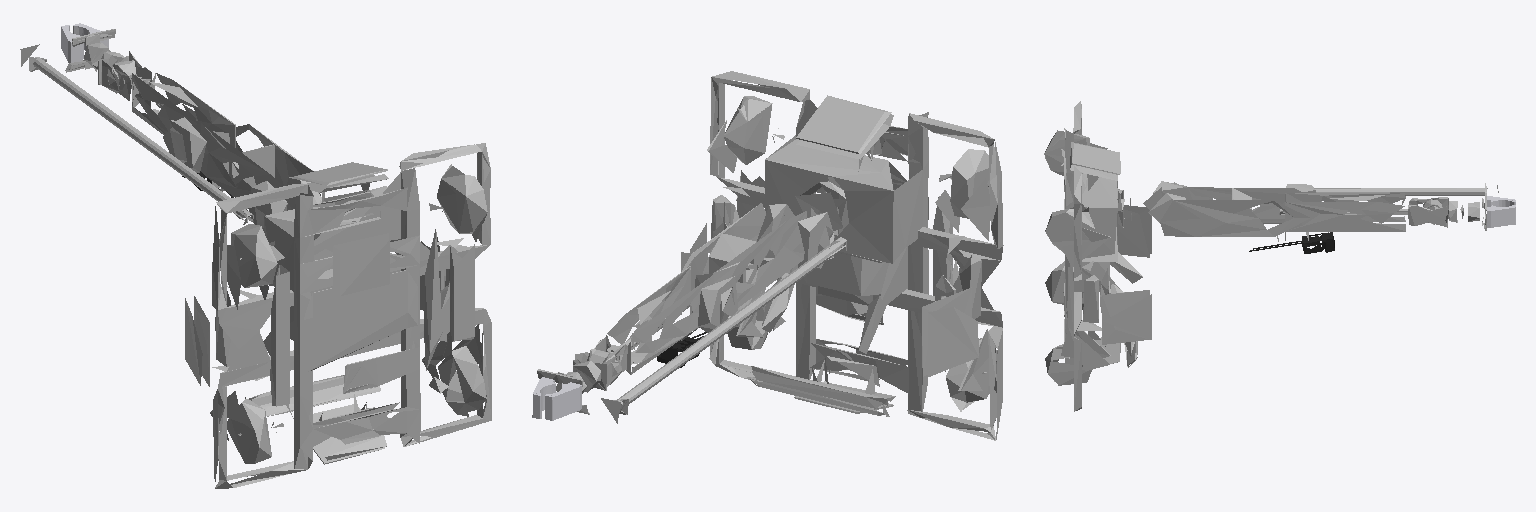
The robot description file, URDF, robot "engineer_0520_description":
<?xml version="1.0" encoding="utf-8"?>
<!-- This URDF was automatically created by SolidWorks to URDF Exporter! Originally created by Stephen Brawner (brawner@gmail.com) 
     Commit Version: 1.6.0-4-g7f85cfe  Build Version: 1.6.7995.38578
     For more information, please see http://wiki.ros.org/sw_urdf_exporter -->
<robot
  name="engineer_0520_description">
  <link
    name="world" />
  <joint
    name="world_to_base_link"
    type="fixed">
    <origin
      xyz="0 0 0"
      rpy="0 0 0" />
    <parent
      link="world" />
    <child
      link="base_link" />
  </joint>
  <link
    name="base_link">
    <inertial>
      <origin
        xyz="-0.15574296864304 0.25090625062732 0.235076139553237"
        rpy="0 0 0" />
      <mass
        value="1845.63092770644" />
      <inertia
        ixx="347.000686482479"
        ixy="7.0242702233582E-07"
        ixz="1.47566858487164E-06"
        iyy="393.235048089486"
        iyz="-0.000180676144602403"
        izz="346.993091857669" />
    </inertial>
    <visual>
      <origin
        xyz="0 0 0"
        rpy="0 0 0" />
      <geometry>
        <mesh
          filename="package://engineer_0520_description/meshes/base_link.STL" />
      </geometry>
      <material
        name="">
        <color
          rgba="0.752941176470588 0.752941176470588 0.752941176470588 1" />
      </material>
    </visual>
    <collision>
      <origin
        xyz="0 0 0"
        rpy="0 0 0" />
      <geometry>
        <mesh
          filename="package://engineer_0520_description/meshes/base_link.STL" />
      </geometry>
    </collision>
  </link>
  <link
    name="J1_link">
    <inertial>
      <origin
        xyz="-0.0187536614195956 0.132069580136279 0.000197561285718323"
        rpy="0 0 0" />
      <mass
        value="2.01551628733357" />
      <inertia
        ixx="0.0105697583079727"
        ixy="-9.82312126860049E-07"
        ixz="9.68727270818069E-07"
        iyy="0.0012445175584642"
        iyz="2.03452664199397E-05"
        izz="0.00964014877895151" />
    </inertial>
    <visual>
      <origin
        xyz="0 0 0"
        rpy="0 0 0" />
      <geometry>
        <mesh
          filename="package://engineer_0520_description/meshes/J1_link.STL" />
      </geometry>
      <material
        name="">
        <color
          rgba="0.752941176470588 0.752941176470588 0.752941176470588 1" />
      </material>
    </visual>
    <collision>
      <origin
        xyz="0 0 0"
        rpy="0 0 0" />
      <geometry>
        <mesh
          filename="package://engineer_0520_description/meshes/J1_link.STL" />
      </geometry>
    </collision>
  </link>
  <joint
    name="J1_joint"
    type="revolute">
    <origin
      xyz="0 0.1315 0.132"
      rpy="0 0 0" />
    <parent
      link="base_link" />
    <child
      link="J1_link" />
    <axis
      xyz="0 1 0" />
    <limit
      lower="-3"
      upper="3"
      effort="9"
      velocity="20.0" />
  </joint>
  <link
    name="J2_link">
    <inertial>
      <origin
        xyz="-0.0272444412408289 0.237454011381441 6.73891861327769E-05"
        rpy="0 0 0" />
      <mass
        value="1.5324502721387" />
      <inertia
        ixx="0.00593383574667708"
        ixy="-2.94416883919934E-09"
        ixz="4.78295159906094E-07"
        iyy="0.0011293748733648"
        iyz="1.35372771031177E-06"
        izz="0.00517042153986259" />
    </inertial>
    <visual>
      <origin
        xyz="0 0 0"
        rpy="0 0 0" />
      <geometry>
        <mesh
          filename="package://engineer_0520_description/meshes/J2_link.STL" />
      </geometry>
      <material
        name="">
        <color
          rgba="0.752941176470588 0.752941176470588 0.752941176470588 1" />
      </material>
    </visual>
    <collision>
      <origin
        xyz="0 0 0"
        rpy="0 0 0" />
      <geometry>
        <mesh
          filename="package://engineer_0520_description/meshes/J2_link.STL" />
      </geometry>
    </collision>
  </link>
  <joint
    name="J2_joint"
    type="revolute">
    <origin
      xyz="0.019 0.09 0"
      rpy="0 0 0" />
    <parent
      link="J1_link" />
    <child
      link="J2_link" />
    <axis
      xyz="-1 0 0" />
    <limit
      lower="-1"
      upper="1"
      effort="24"
      velocity="20.0" />
  </joint>
  <link
    name="J3_link">
    <inertial>
      <origin
        xyz="0.000246150730100224 0.0696837478174211 -0.0145365067280068"
        rpy="0 0 0" />
      <mass
        value="0.637441970527478" />
      <inertia
        ixx="0.00271328583847924"
        ixy="7.26213212632554E-10"
        ixz="1.74819116642235E-07"
        iyy="0.00027441567972836"
        iyz="1.07057531147903E-06"
        izz="0.0025837902810134" />
    </inertial>
    <visual>
      <origin
        xyz="0 0 0"
        rpy="0 0 0" />
      <geometry>
        <mesh
          filename="package://engineer_0520_description/meshes/J3_link.STL" />
      </geometry>
      <material
        name="">
        <color
          rgba="0.752941176470588 0.752941176470588 0.752941176470588 1" />
      </material>
    </visual>
    <collision>
      <origin
        xyz="0 0 0"
        rpy="0 0 0" />
      <geometry>
        <mesh
          filename="package://engineer_0520_description/meshes/J3_link.STL" />
      </geometry>
    </collision>
  </link>
  <joint
    name="J3_joint"
    type="revolute">
    <origin
      xyz="-0.0005 0.32 0"
      rpy="0 0 0" />
    <parent
      link="J2_link" />
    <child
      link="J3_link" />
    <axis
      xyz="-1 0 0" />
    <limit
      lower="-2.62"
      upper="1.7"
      effort="12"
      velocity="20.0" />
  </joint>
  <link
    name="J4_link">
    <inertial>
      <origin
        xyz="-0.00181738524803158 0.031346229412983 9.83436362550494E-05"
        rpy="0 0 0" />
      <mass
        value="0.178639999994294" />
      <inertia
        ixx="7.5266473654563E-05"
        ixy="1.78728148504234E-08"
        ixz="3.03867212142531E-08"
        iyy="3.62165400431792E-05"
        iyz="-2.2016577990914E-08"
        izz="5.0139024590417E-05" />
    </inertial>
    <visual>
      <origin
        xyz="0 0 0"
        rpy="0 0 0" />
      <geometry>
        <mesh
          filename="package://engineer_0520_description/meshes/J4_link.STL" />
      </geometry>
      <material
        name="">
        <color
          rgba="0.752941176470588 0.752941176470588 0.752941176470588 1" />
      </material>
    </visual>
    <collision>
      <origin
        xyz="0 0 0"
        rpy="0 0 0" />
      <geometry>
        <mesh
          filename="package://engineer_0520_description/meshes/J4_link.STL" />
      </geometry>
    </collision>
  </link>
  <joint
    name="J4_joint"
    type="revolute">
    <origin
      xyz="0 0.28070210853372 0"
      rpy="0 0 0" />
    <parent
      link="J3_link" />
    <child
      link="J4_link" />
    <axis
      xyz="0 -1 0" />
    <limit
      lower="-3.14"
      upper="3.14"
      effort="4"
      velocity="20.0" />
  </joint>
  <link
    name="J5_link">
    <inertial>
      <origin
        xyz="-0.000818589722430721 0.0336820874514009 -0.000358450127793009"
        rpy="0 0 0" />
      <mass
        value="0.114681497965425" />
      <inertia
        ixx="2.93631674509271E-05"
        ixy="4.18472244802698E-09"
        ixz="2.20706578949005E-08"
        iyy="3.80349209787703E-05"
        iyz="4.35573494198617E-08"
        izz="2.7086932663539E-05" />
    </inertial>
    <visual>
      <origin
        xyz="0 0 0"
        rpy="0 0 0" />
      <geometry>
        <mesh
          filename="package://engineer_0520_description/meshes/J5_link.STL" />
      </geometry>
      <material
        name="">
        <color
          rgba="0.752941176470588 0.752941176470588 0.752941176470588 1" />
      </material>
    </visual>
    <collision>
      <origin
        xyz="0 0 0"
        rpy="0 0 0" />
      <geometry>
        <mesh
          filename="package://engineer_0520_description/meshes/J5_link.STL" />
      </geometry>
    </collision>
  </link>
  <joint
    name="J5_joint"
    type="revolute">
    <origin
      xyz="0 0.0442978914662795 0"
      rpy="0 0 0" />
    <parent
      link="J4_link" />
    <child
      link="J5_link" />
    <axis
      xyz="-1 0 0" />
    <limit
      lower="-2"
      upper="2"
      effort="5"
      velocity="20.0" />
  </joint>
  <link
    name="J6_link">
    <inertial>
      <origin
        xyz="-7.36099122376627E-05 -0.00792453225189915 1.94377710707183E-05"
        rpy="0 0 0" />
      <mass
        value="0.274222052705575" />
      <inertia
        ixx="2.7933241040805E-05"
        ixy="-3.37298349477692E-08"
        ixz="6.90052701435227E-08"
        iyy="9.61910417664122E-05"
        iyz="-7.97777742518918E-09"
        izz="7.80592654053116E-05" />
    </inertial>
    <visual>
      <origin
        xyz="0 0 0"
        rpy="0 0 0" />
      <geometry>
        <mesh
          filename="package://engineer_0520_description/meshes/J6_link.STL" />
      </geometry>
      <material
        name="">
        <color
          rgba="0.752941176470588 0.752941176470588 0.752941176470588 1" />
      </material>
    </visual>
    <collision>
      <origin
        xyz="0 0 0"
        rpy="0 0 0" />
      <geometry>
        <mesh
          filename="package://engineer_0520_description/meshes/J6_link.STL" />
      </geometry>
    </collision>
  </link>
  <joint
    name="J6_joint"
    type="revolute">
    <origin
      xyz="0 0.1179 0"
      rpy="0 0 0" />
    <parent
      link="J5_link" />
    <child
      link="J6_link" />
    <axis
      xyz="0 1 0" />
    <limit
      lower="-3.14"
      upper="3.14"
      effort="4"
      velocity="20.0" />
  </joint>
  <link
    name="claw1_link">
    <inertial>
      <origin
        xyz="0.0377332068105226 -0.0102196163488086 -0.0170292088704908"
        rpy="0 0 0" />
      <mass
        value="0.163350850695426" />
      <inertia
        ixx="9.9090701762021E-05"
        ixy="-1.24240348696389E-05"
        ixz="-2.27437709943838E-08"
        iyy="3.83929113442839E-05"
        iyz="1.27777079618242E-07"
        izz="7.99823961402051E-05" />
    </inertial>
    <visual>
      <origin
        xyz="0 0 0"
        rpy="0 0 0" />
      <geometry>
        <mesh
          filename="package://engineer_0520_description/meshes/claw1_link.STL" />
      </geometry>
      <material
        name="">
        <color
          rgba="0.866666666666667 0.866666666666667 0.890196078431372 1" />
      </material>
    </visual>
    <collision>
      <origin
        xyz="0 0 0"
        rpy="0 0 0" />
      <geometry>
        <mesh
          filename="package://engineer_0520_description/meshes/claw1_link.STL" />
      </geometry>
    </collision>
  </link>
  <joint
    name="claw1_joint"
    type="prismatic">
    <origin
      xyz="-0.0146 0.055 0.01556"
      rpy="0 0 0" />
    <parent
      link="J6_link" />
    <child
      link="claw1_link" />
    <axis
      xyz="-1 0 0" />
    <limit
      lower="-0.06"
      upper="0"
      effort="10"
      velocity="0.3" />
  </joint>
  <link
    name="claw2_link">
    <inertial>
      <origin
        xyz="-0.037733206810525 -0.0102196163488086 0.0170292088704905"
        rpy="0 0 0" />
      <mass
        value="0.163350850695426" />
      <inertia
        ixx="9.90907017620209E-05"
        ixy="1.2424034869639E-05"
        ixz="-2.27437709945702E-08"
        iyy="3.8392911344284E-05"
        iyz="-1.27777079618117E-07"
        izz="7.99823961402051E-05" />
    </inertial>
    <visual>
      <origin
        xyz="0 0 0"
        rpy="0 0 0" />
      <geometry>
        <mesh
          filename="package://engineer_0520_description/meshes/claw2_link.STL" />
      </geometry>
      <material
        name="">
        <color
          rgba="0.866666666666667 0.866666666666667 0.890196078431372 1" />
      </material>
    </visual>
    <collision>
      <origin
        xyz="0 0 0"
        rpy="0 0 0" />
      <geometry>
        <mesh
          filename="package://engineer_0520_description/meshes/claw2_link.STL" />
      </geometry>
    </collision>
  </link>
  <joint
    name="claw2_joint"
    type="prismatic">
    <origin
      xyz="0.0146 0.055 -0.01556"
      rpy="0 0 0" />
    <parent
      link="J6_link" />
    <child
      link="claw2_link" />
    <axis
      xyz="-1 0 0" />
    <limit
      lower="0"
      upper="0.06"
      effort="10"
      velocity="0.3" />
    <mimic
      joint="claw1_joint"
      multiplier="-1"
      offset="0" />
  </joint>
  <link
    name="camera_link">
    <inertial>
      <origin
        xyz="-0.0191656541034804 -0.419838670187965 -0.0243780259109728"
        rpy="0 0 0" />
      <mass
        value="20.7907911627569" />
      <inertia
        ixx="2.0459324640404"
        ixy="0.00333036757283835"
        ixz="0.0734262663039674"
        iyy="0.990870352884288"
        iyz="0.268063547882842"
        izz="2.13841873971876" />
    </inertial>
    <visual>
      <origin
        xyz="0 0 0"
        rpy="0 0 0" />
      <geometry>
        <mesh
          filename="package://engineer_0520_description/meshes/camera_link.STL" />
      </geometry>
      <material
        name="">
        <color
          rgba="0.196078431372549 0.196078431372549 0.196078431372549 1" />
      </material>
    </visual>
    <collision>
      <origin
        xyz="0 0 0"
        rpy="0 0 0" />
      <geometry>
        <mesh
          filename="package://engineer_0520_description/meshes/camera_link.STL" />
      </geometry>
    </collision>
  </link>
  <joint
    name="camera_joint"
    type="fixed">
    <origin
      xyz="0 0.0310661457422743 -0.0731345949539173"
      rpy="0 0 0" />
    <parent
      link="J3_link" />
    <child
      link="camera_link" />
    <axis
      xyz="0 0 0" />
  </joint>
  <link
    name="tcp_link" />
  <joint
    name="tcp_joint"
    type="fixed">
    <origin
      xyz="0 0.055 0"
      rpy="0 0 1.57" />
    <parent
      link="J6_link" />
    <child
      link="tcp_link" />
  </joint>
</robot>

--- What the picture shows (computed from the rendered views, not written in the file) ---
The picture shows the robot from 3 angles, left to right: view 1: azimuth 30°, elevation 25°; view 2: azimuth 150°, elevation 25°; view 3: azimuth 270°, elevation 25°; orthographic projection.
Model engineer_0520_description with 12 links and 11 joints (6 revolute, 2 prismatic, 3 fixed), rooted at world, posed every joint at zero.
Visible links, largest first — view 1: base_link, J2_link, J1_link, J3_link, J6_link, J5_link, J4_link, claw2_link; view 2: base_link, J2_link, J1_link, J3_link, J5_link, claw2_link, J4_link, J6_link, claw1_link; view 3: base_link, J2_link, J3_link, J1_link, camera_link, J4_link, J5_link, claw1_link.
Boxes of the visible links, x1,y1,x2,y2 form: base_link: (185,143,491,488); J2_link: (163,117,320,197); J1_link: (20,44,321,230); J3_link: (131,73,235,191); J6_link: (65,29,115,72); J5_link: (97,51,141,93); J4_link: (111,60,151,100); claw2_link: (61,25,83,62); base_link: (681,71,1003,440); J2_link: (682,203,806,328); J1_link: (601,204,846,423); J3_link: (606,266,713,374); J5_link: (573,352,621,391); claw2_link: (545,382,581,420); J4_link: (587,337,627,373); J6_link: (537,369,592,414); claw1_link: (532,377,555,418); base_link: (1044,101,1151,411); J2_link: (1160,184,1321,236); J3_link: (1277,193,1407,241); J1_link: (1143,181,1498,222); camera_link: (1249,232,1334,253); J4_link: (1408,198,1441,225); J5_link: (1426,197,1457,227); claw1_link: (1487,205,1515,227).
Bounding box of the posed robot: 0.59 × 1.16 × 0.5901 m (x, y, z).
Meshes: 10 distinct files referenced, 10 mesh visuals loaded (10 binary STL).
